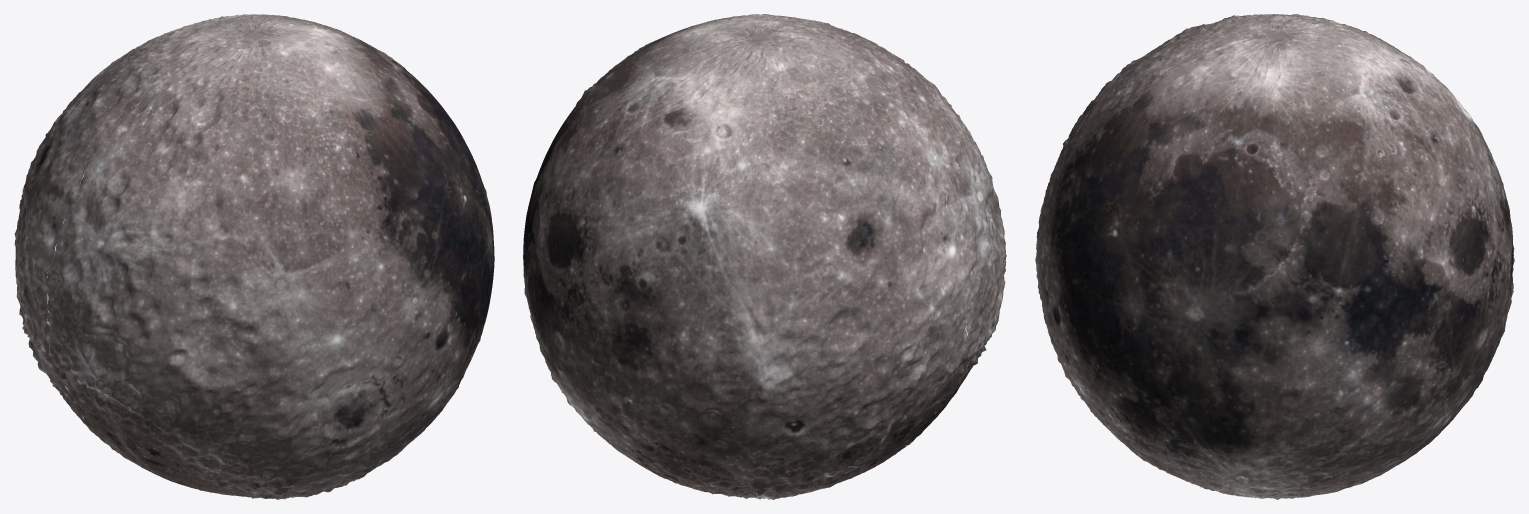
The model's file is moon.glb.
3 renders of one model, left to right at view 1: azimuth 30°, elevation 25°; view 2: azimuth 150°, elevation 25°; view 3: azimuth 270°, elevation 25°, orthographic.
Visible parts, largest first — view 1: Moon; view 2: Moon; view 3: Moon.
Part boxes in pixels (box(x1,y1,x2,y2)): Moon: box(14, 14, 494, 499); Moon: box(523, 14, 1006, 499); Moon: box(1035, 14, 1514, 499).
Bounding box in the file's own units: 2 × 2.03 × 1.99.
1 material, 1 textured.
